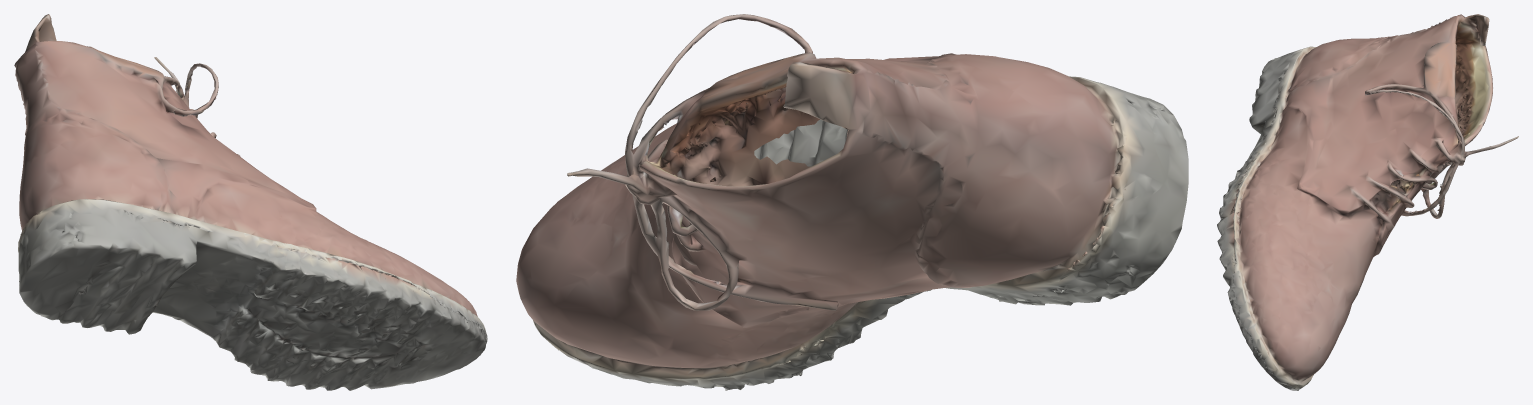
File: chukka-boots.glb
3 views of the same model, side by side, from view 1: azimuth 30°, elevation 25°; view 2: azimuth 150°, elevation 25°; view 3: azimuth 270°, elevation 25° (orthographic). The views are drawn at different scales.
Parts seen in each view (by area): view 1: Model_material0_0; view 2: Model_material0_0; view 3: Model_material0_0.
Part boxes in pixels (x1,y1,x2,y2): Model_material0_0: (14,14,487,390); Model_material0_0: (516,14,1188,390); Model_material0_0: (1217,14,1518,390).
Size of the model in its own units: 2.89 by 2.15 by 2.17.
